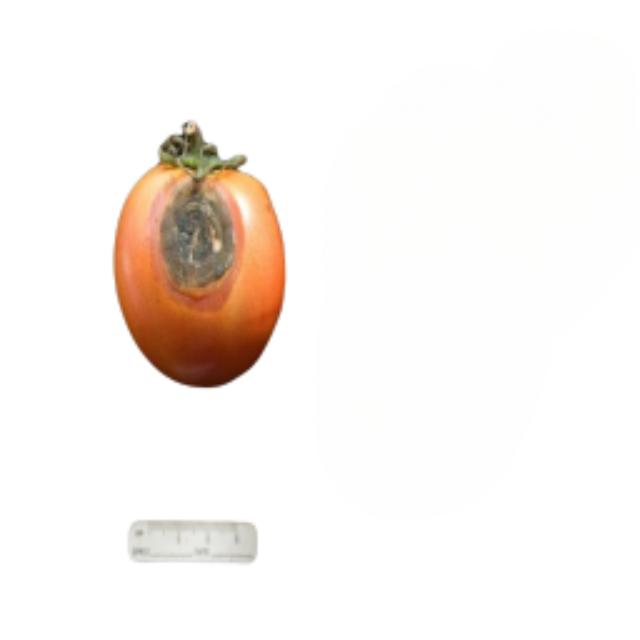defect: (109, 123, 290, 388)
